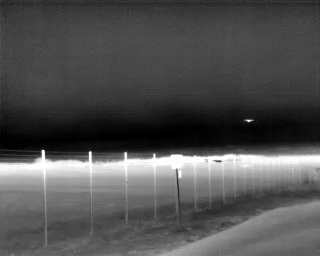AIRPLANE: (242, 116, 256, 125)
